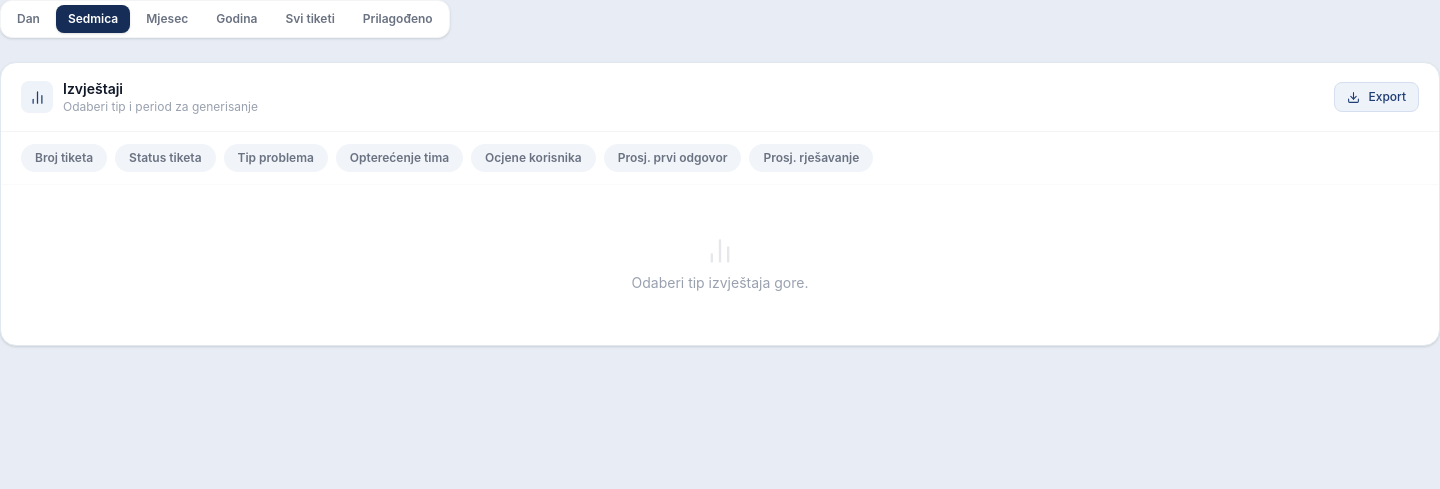
Test: US-88 — FIRST_RESPONSE izvještaj na /reports › generiše FIRST_RESPONSE i prikazuje prosjek + bucket tabelu
The width and height of the screenshot is (1440, 489).
Step 1. Click the button "Prosj. prvi odgovor" → (673, 158), box [604,144,742,172]
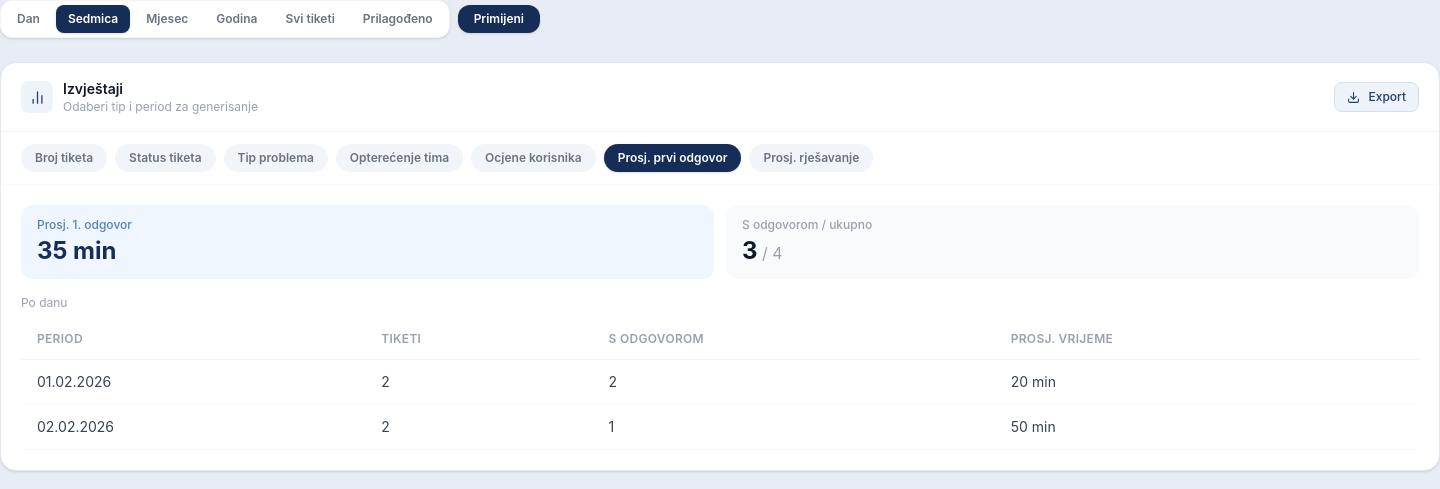
expect the text "Po danu" is shown: met, box [21,295,68,310]
expect the text "S odgovorom / ukupno" is shown: met, box [742,217,872,232]
expect the text "01.02.2026" is shown: met, box [21,360,365,404]
